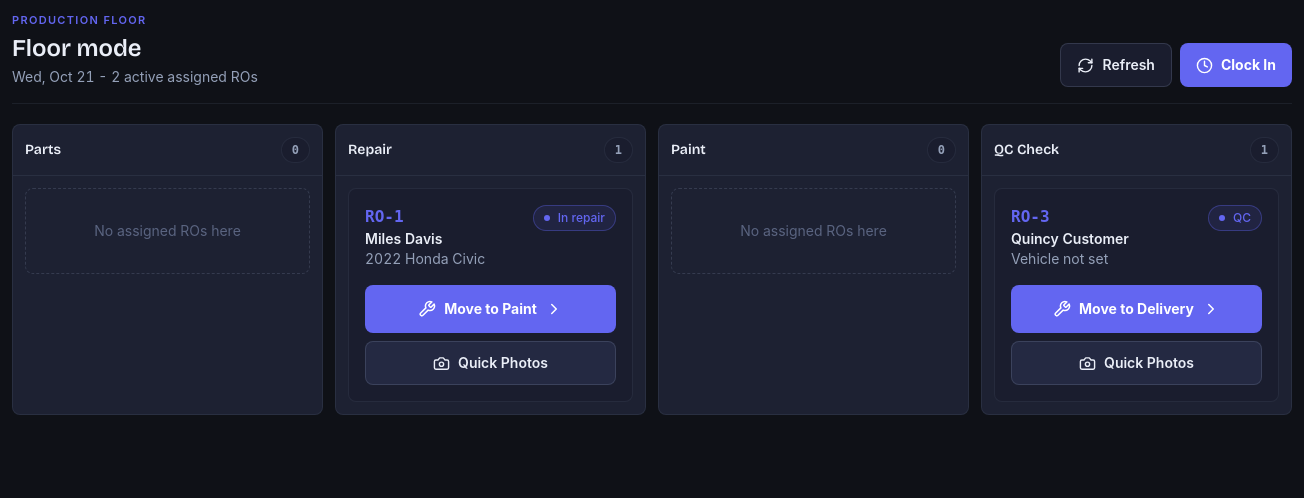
FloorMode › rolls back optimistic status advance when the status API fails
Expected: the link "RO-1" is shown, top-left (365, 207), bottom-right (404, 226)
Click the button "Move to Paint" at [490, 309], box top-left (365, 285), bottom-right (616, 333)
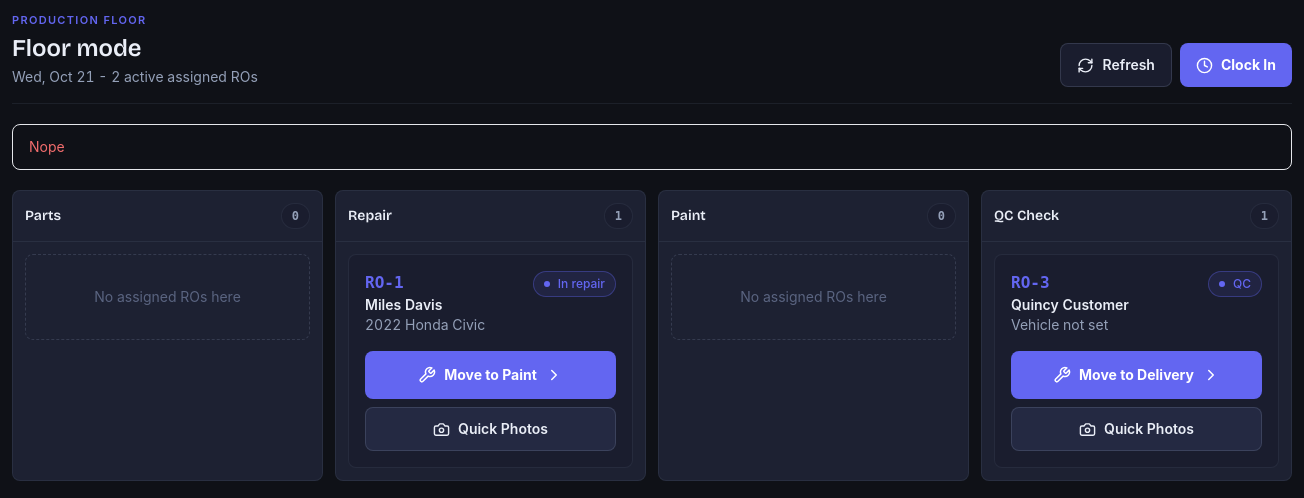
Expected: the link "RO-1" is shown, top-left (365, 273), bottom-right (404, 292)
Now the text "Nope" is shown, box top-left (12, 124), bottom-right (1292, 170)
